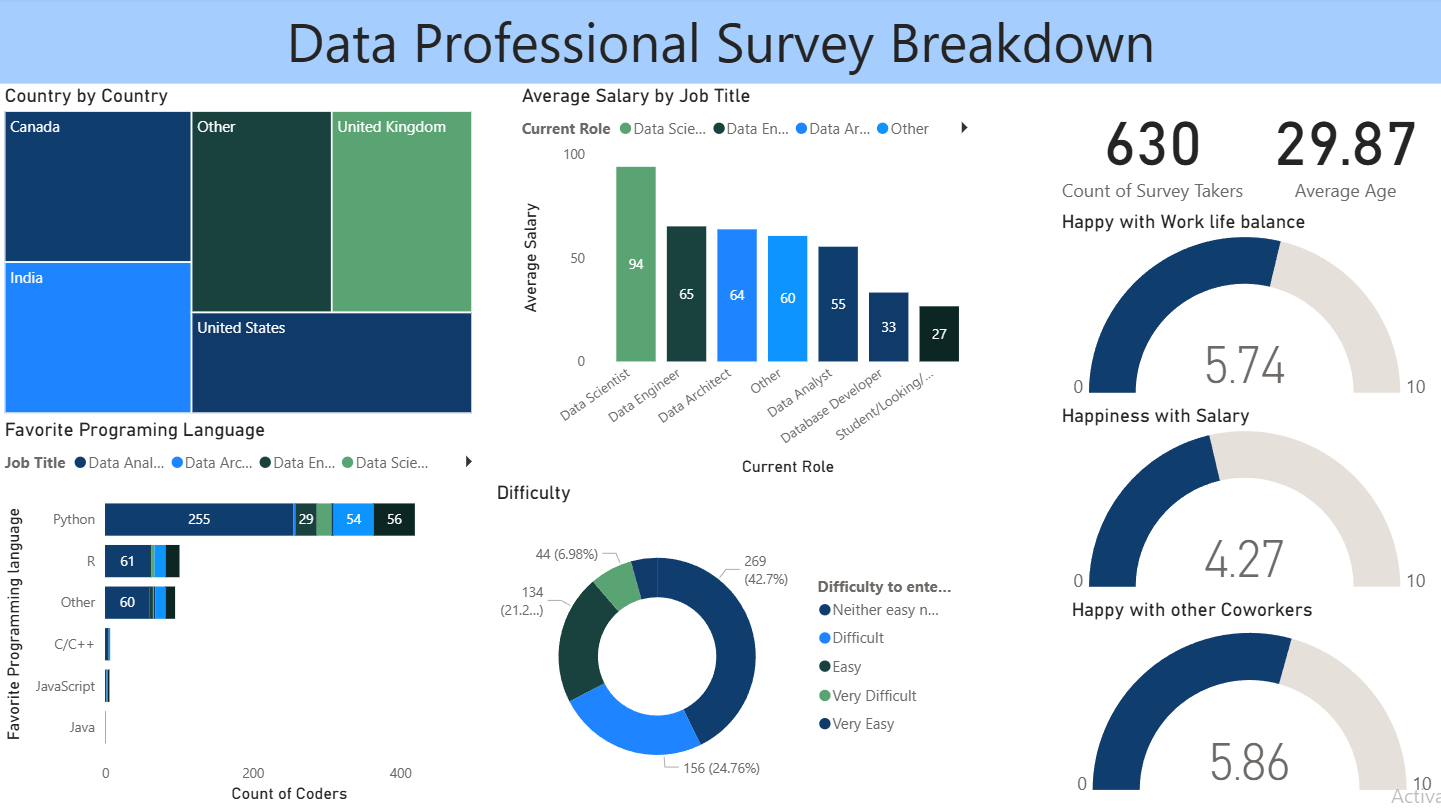

Layout of this report page (visuals, bound fields, positions):
{"tool":"powerbi","page":{"name":"Page 1","canvas":[1280,720],"ordinal":0},"visuals":[{"type":"textbox","box":[0,0,1280,75.9],"z":0},{"type":"card","fields":{"Values":["Count(Data Professional Survey.Unique ID)"]},"box":[937.4,75.9,171.3,111.9],"z":1000},{"type":"card","fields":{"Values":["Avg(Data Professional Survey.Q10 - Current Age)"]},"box":[1108.7,75.9,171.3,111.9],"z":2000},{"type":"columnChart","title":"Average Salary by Job Title","fields":{"Category":["Data Professional Survey.Q1 - Which Title Best Fits your Current Role?.1"],"Y":["Avg(Data Professional Survey.Average Salary)"],"Series":["Data Professional Survey.Q1 - Which Title Best Fits your Current Role?.1"]},"box":[458.5,75.9,416.6,352.4],"z":3000},{"type":"barChart","title":"Favorite Programing Language","fields":{"Category":["Data Professional Survey.Q5 - Favorite Programming Language.1"],"Y":["CountNonNull(Data Professional Survey.Unique ID)"],"Series":["Data Professional Survey.Q1 - Which Title Best Fits your Current Role?.1"]},"box":[0,372.8,436.1,346.5],"z":4000},{"type":"treemap","fields":{"Group":["Data Professional Survey.Q11 - Which Country do you live in?.1"],"Values":["CountNonNull(Data Professional Survey.Q11 - Which Country do you live in?.1)"]},"box":[0,75.9,424.4,296.9],"z":5000},{"type":"gauge","title":"Happy with Work life balance","fields":{"Y":["Avg(Data Professional Survey.Q6 - How Happy are you in your Current Position with the following? (Work/Life Balance))"],"MinValue":["Min(Data Professional Survey.Q6 - How Happy are you in your Current Position with the following? (Work/Life Balance))"],"MaxValue":["Max(Data Professional Survey.Q6 - How Happy are you in your Current Position with the following? (Work/Life Balance))1"]},"box":[937.2,188,343.2,172],"z":6000},{"type":"gauge","title":"Happiness with Salary","fields":{"Y":["Avg(Data Professional Survey.Q6 - How Happy are you in your Current Position with the following? (Salary))"],"MinValue":["Min(Data Professional Survey.Q6 - How Happy are you in your Current Position with the following? (Salary))"],"MaxValue":["Max(Data Professional Survey.Q6 - How Happy are you in your Current Position with the following? (Management))"]},"box":[937.2,360,343.2,172],"z":7000},{"type":"donutChart","title":"Difficulty","fields":{"Category":["Data Professional Survey.Q7 - How difficult was it for you to break into Data?"],"Y":["CountNonNull(Data Professional Survey.Q7 - How difficult was it for you to break into Data?)"]},"box":[436.1,428.3,416.6,292],"z":8000},{"type":"gauge","title":"Happy with other Coworkers","fields":{"Y":["Avg(Data Professional Survey.Q6 - How Happy are you in your Current Position with the following? (Coworkers))"],"MinValue":["Min(Data Professional Survey.Q6 - How Happy are you in your Current Position with the following? (Coworkers))1"],"MaxValue":["Max(Data Professional Survey.Q6 - How Happy are you in your Current Position with the following? (Coworkers))2"]},"box":[946.1,532,334.3,187.1],"z":9000}]}

Visuals, with their boxes in screenshot pixels (x1, y1, x2, y2), scaled from the page's 1280x720 canvas onto the 1441x810 screenshot:
textbox: bbox(0, 0, 1440, 85)
card - Count(Data Professional Survey.Unique ID): bbox(1055, 85, 1248, 211)
card - Avg(Data Professional Survey.Q10 - Current Age): bbox(1248, 85, 1440, 211)
"Average Salary by Job Title" columnChart: bbox(516, 85, 985, 482)
"Favorite Programing Language" barChart: bbox(0, 419, 491, 809)
treemap - Data Professional Survey.Q11 - Which Country do you live in?.1 x CountNonNull(Data Professional Survey.Q11 - Which Country do you live in?.1): bbox(0, 85, 478, 419)
"Happy with Work life balance" gauge: bbox(1055, 212, 1440, 405)
"Happiness with Salary" gauge: bbox(1055, 405, 1440, 598)
"Difficulty" donutChart: bbox(491, 482, 960, 809)
"Happy with other Coworkers" gauge: bbox(1065, 598, 1440, 809)
